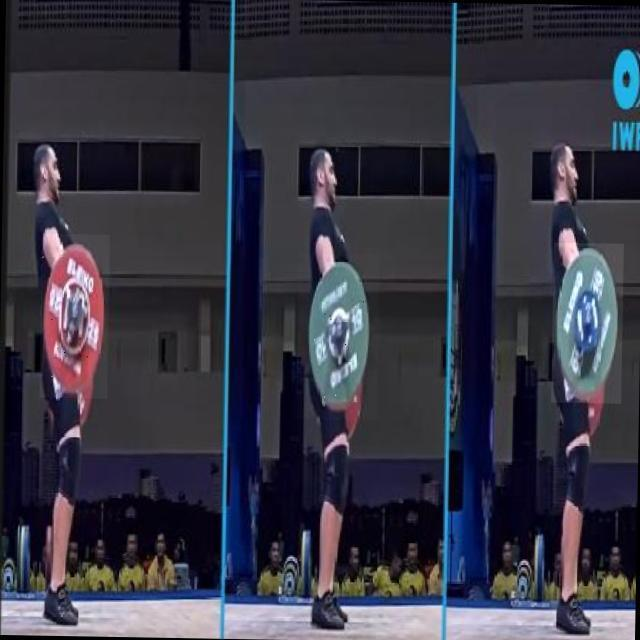barbell: (296, 254, 380, 421), (552, 244, 625, 405), (40, 234, 111, 399)
